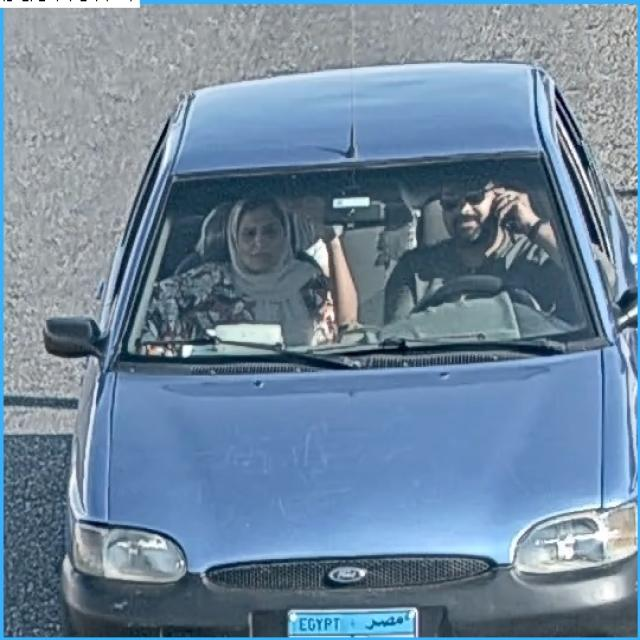windshield: (98, 160, 598, 344)
